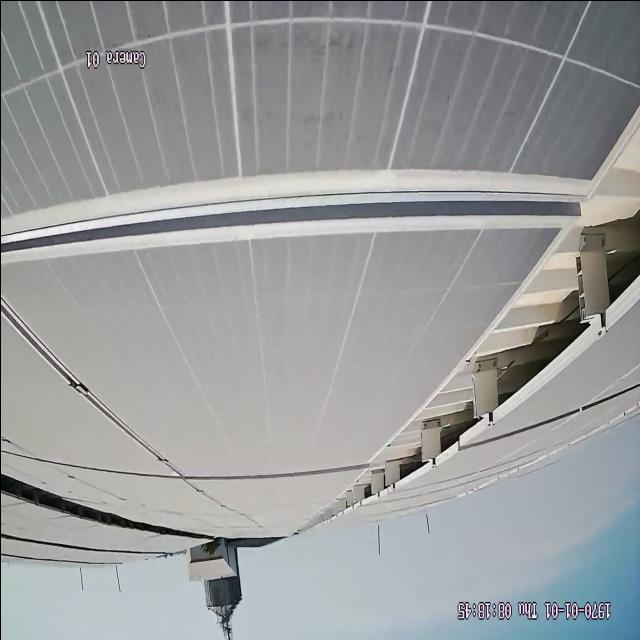interior panel: (2, 182, 570, 267), (1, 302, 230, 506)
outher panel: (313, 122, 640, 522), (3, 471, 157, 533)
